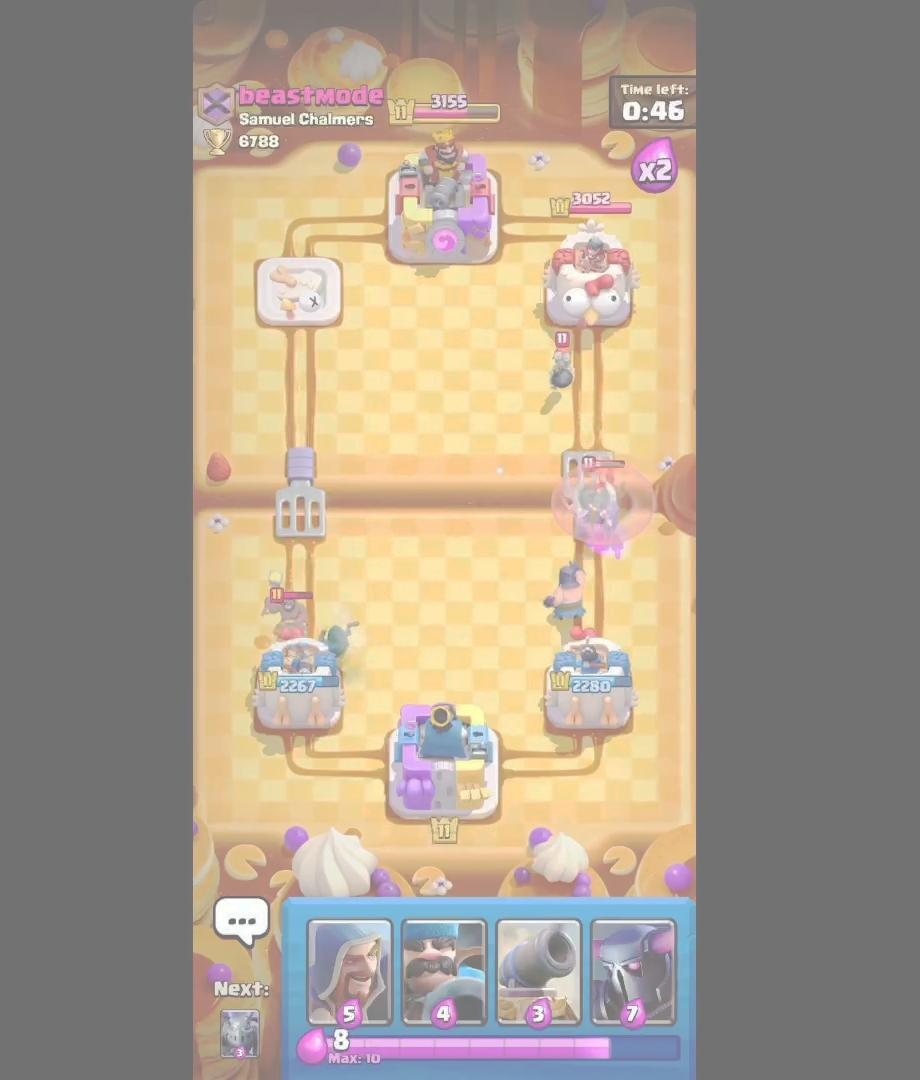Hog Rider: (260, 586, 315, 645)
Valkyrie: (561, 452, 641, 536)
